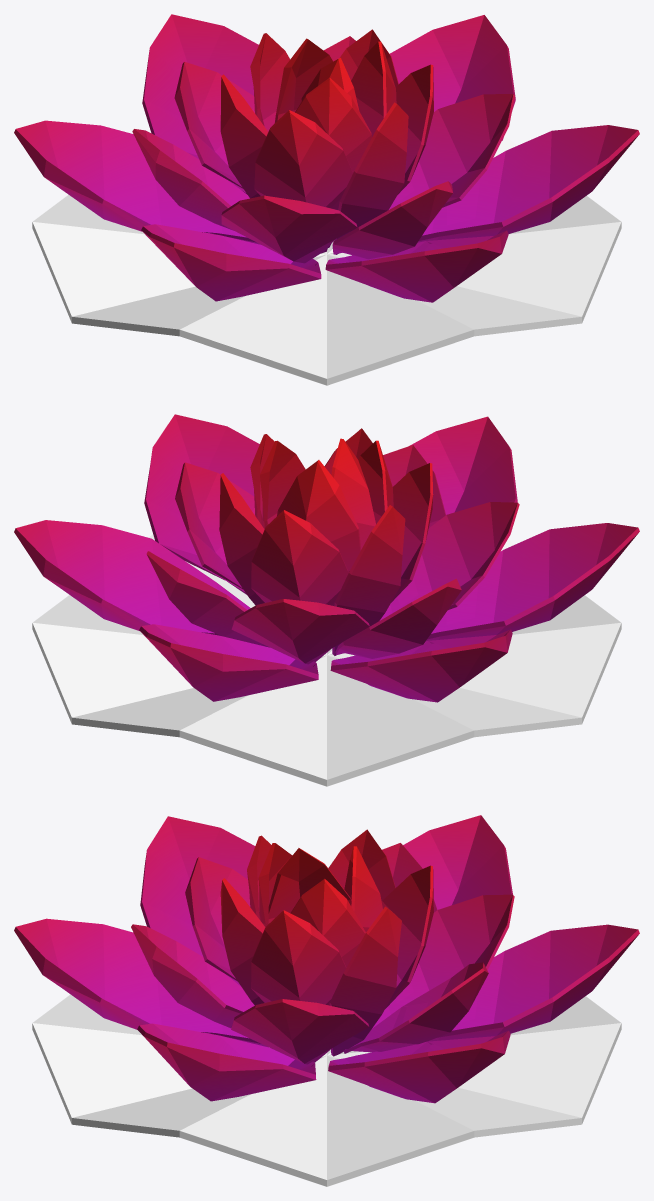
The model's file is nenufar2.fbx.
3 views of the same model, one above another, from view 1: azimuth 30°, elevation 25°; view 2: azimuth 150°, elevation 25°; view 3: azimuth 270°, elevation 25° (orthographic).
Parts seen in each view (by area): view 1: nenufar2; view 2: nenufar2; view 3: nenufar2.
Boxes of the visible parts, x1,y1,x2,y2 form: nenufar2: [14, 14, 639, 385]; nenufar2: [14, 414, 639, 786]; nenufar2: [14, 815, 639, 1186].
Size of the model in its own units: 348 by 139 by 369.
